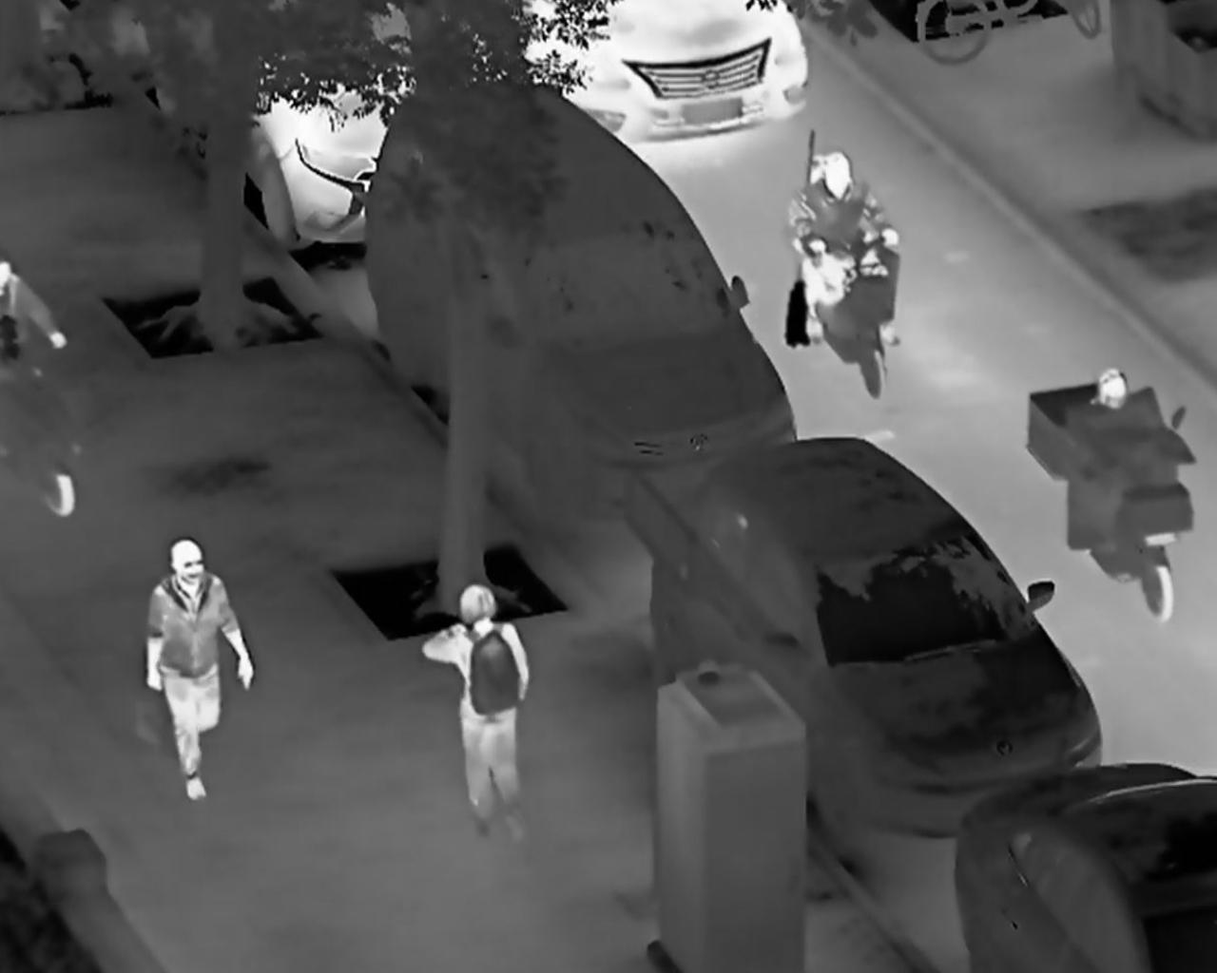person: (416, 580, 533, 856), (141, 537, 254, 803), (789, 149, 901, 355), (1065, 363, 1189, 502)
